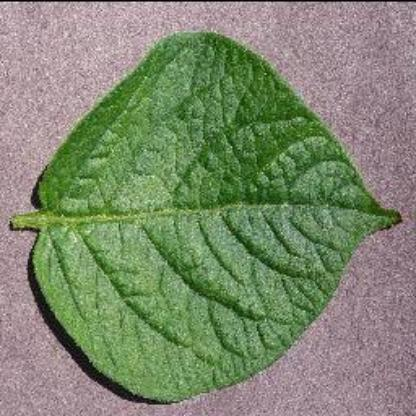Healthy-plant: (18, 31, 404, 401)
